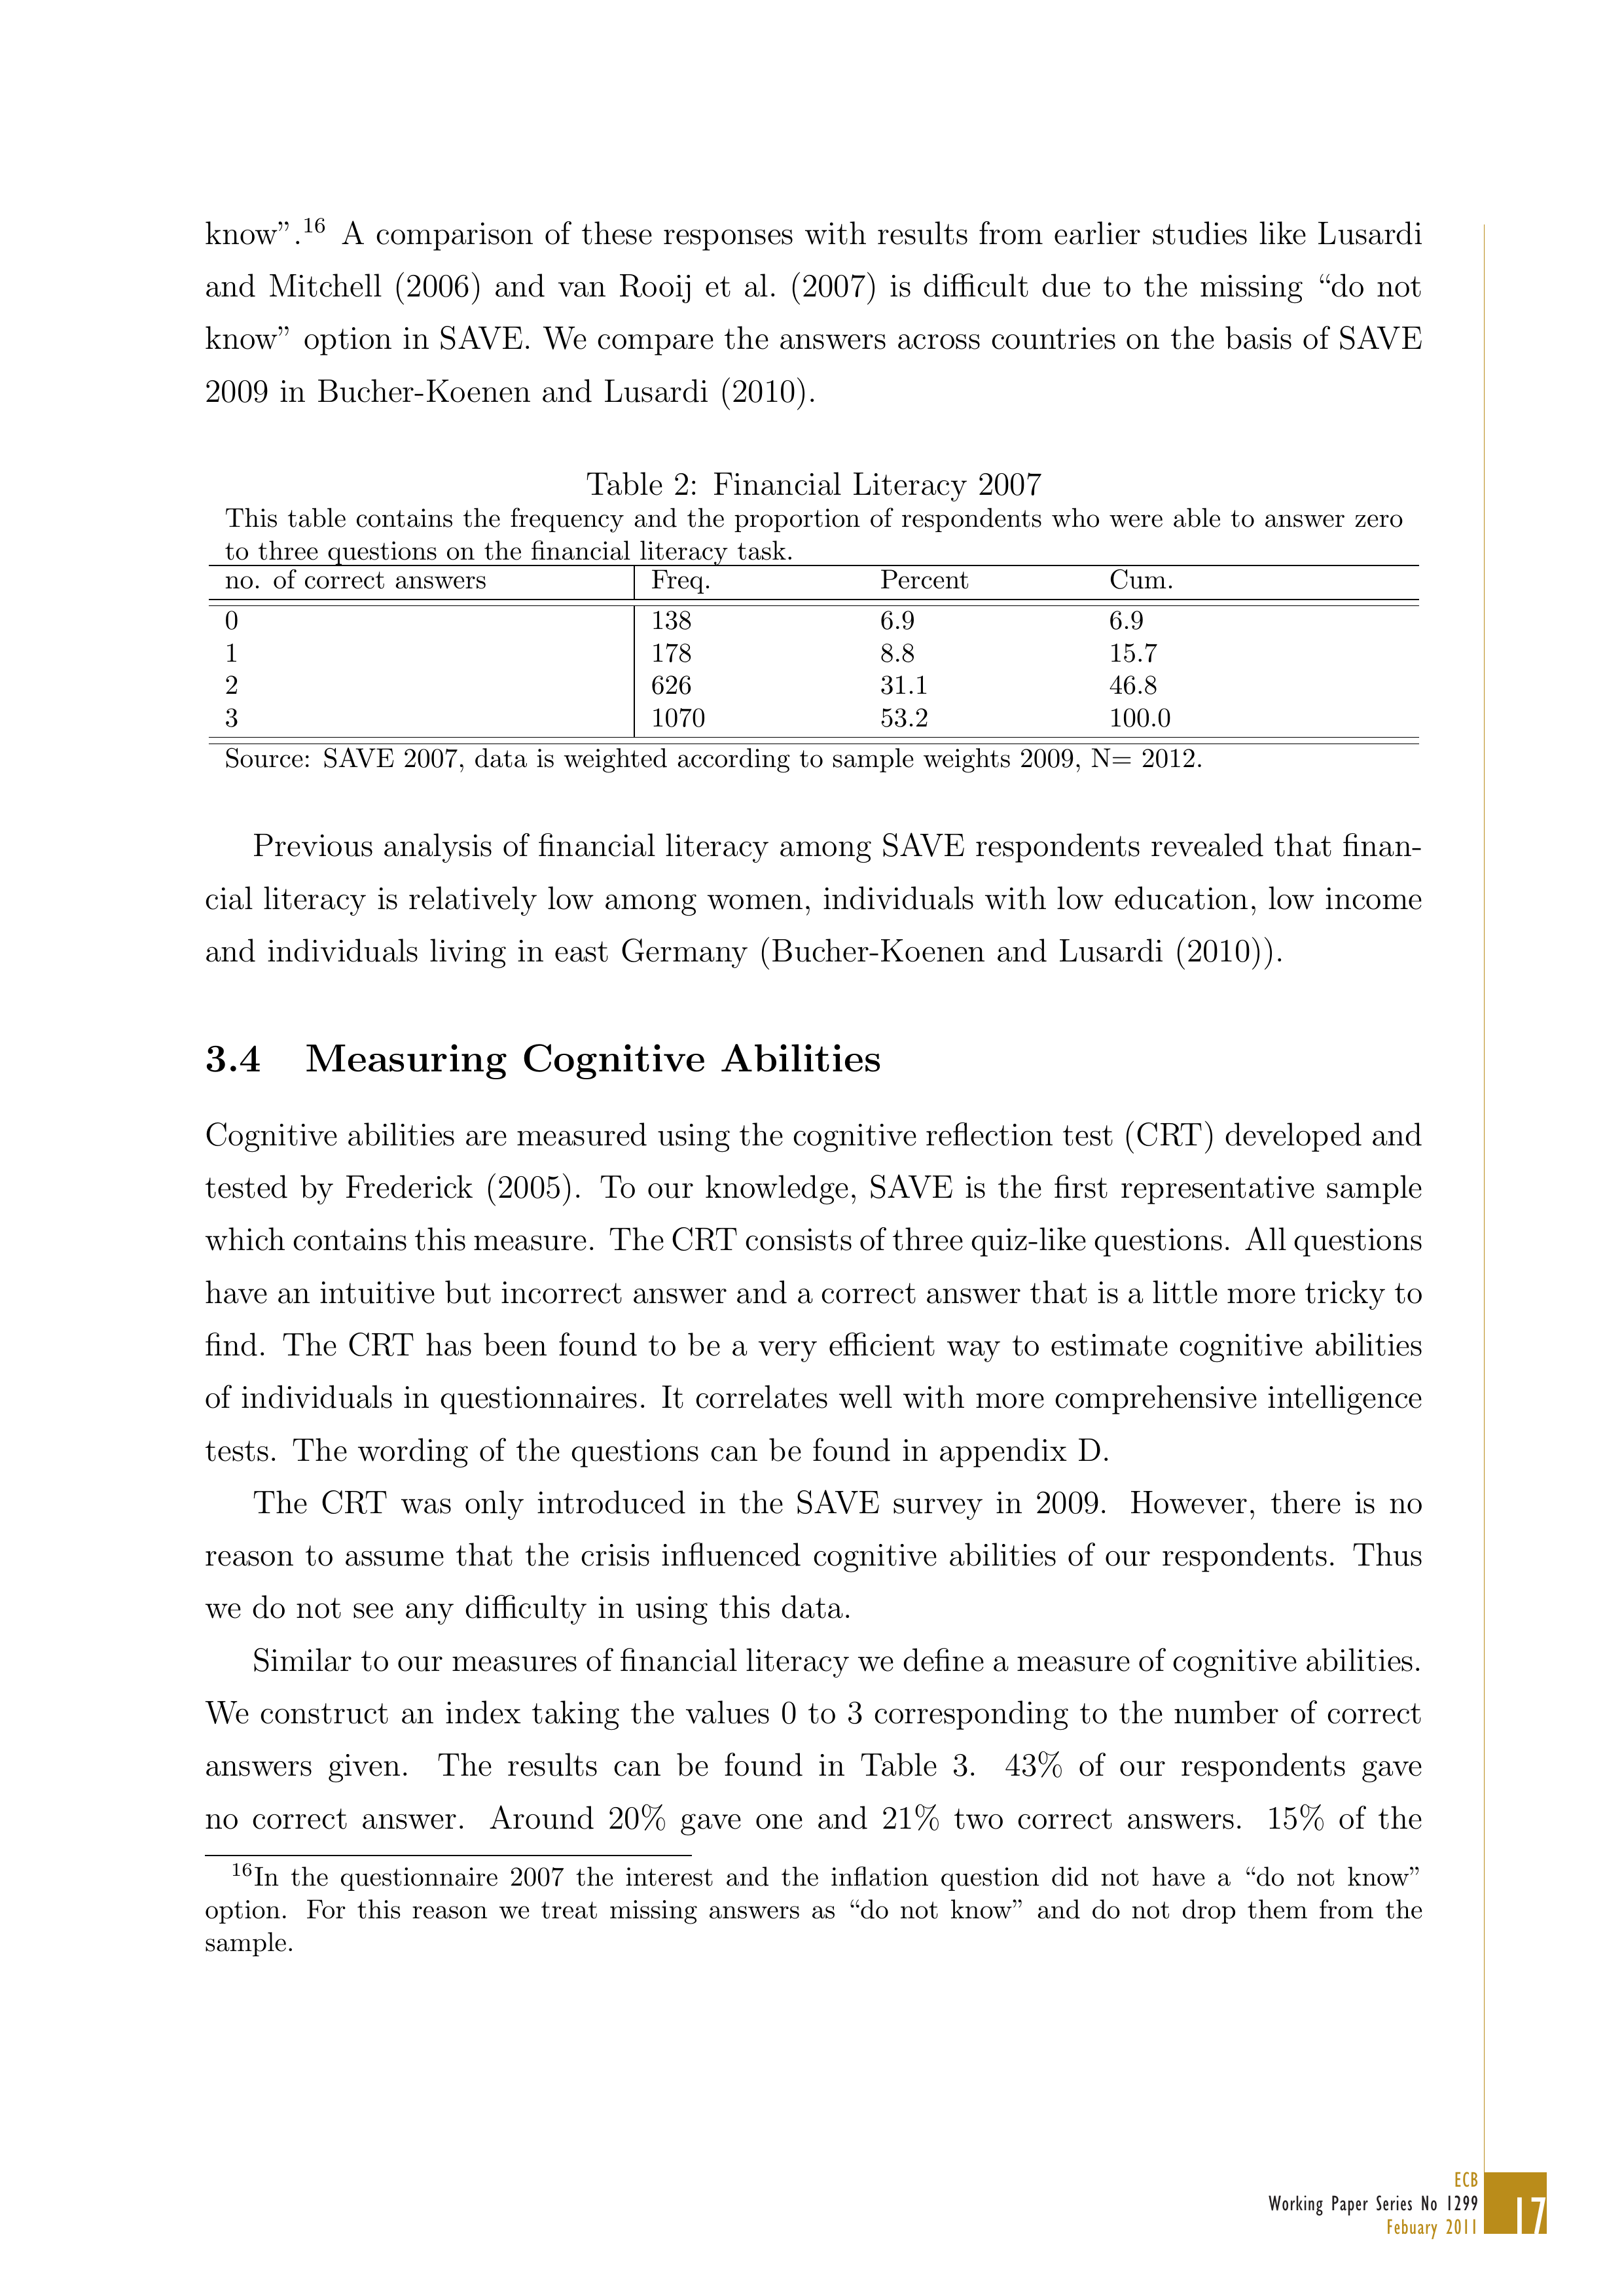table: (204, 559, 1209, 743)
